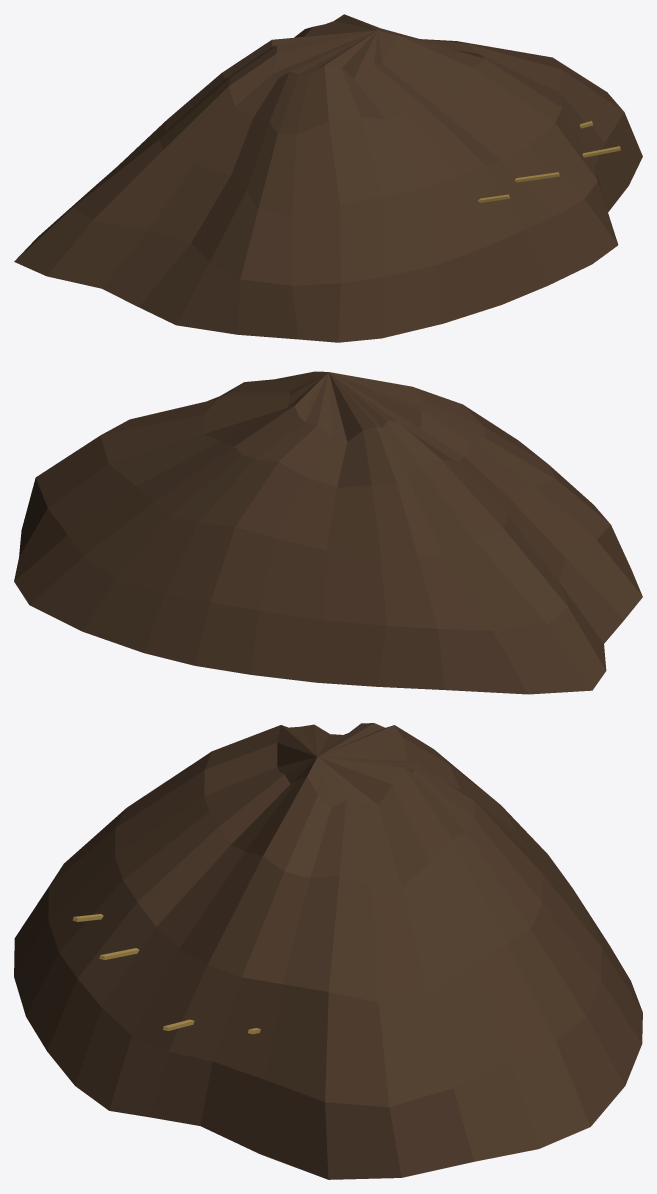
Rendered from FARM_MUCK_PILE_LARGE_LODs.fbx.
3 views of the same model, one above another, from view 1: azimuth 30°, elevation 25°; view 2: azimuth 150°, elevation 25°; view 3: azimuth 270°, elevation 25° (orthographic). The views are drawn at different scales.
Parts seen in each view (by area): view 1: FARM_MUCK_PILE_LARGE_LOD0; view 2: FARM_MUCK_PILE_LARGE_LOD0; view 3: FARM_MUCK_PILE_LARGE_LOD0.
Part boxes in pixels (x1,y1,x2,y2): FARM_MUCK_PILE_LARGE_LOD0: (14, 14, 642, 342); FARM_MUCK_PILE_LARGE_LOD0: (14, 371, 642, 694); FARM_MUCK_PILE_LARGE_LOD0: (14, 723, 642, 1179).
Size of what is drawn, in the model's own units: 2.55 by 0.82 by 1.85.
